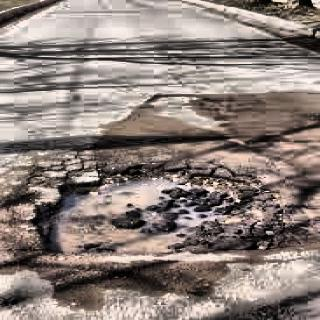pothole: (34, 153, 287, 285)
